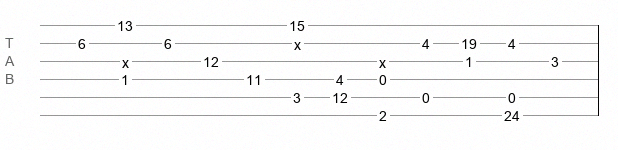0: (379, 72, 387, 82), (422, 90, 430, 100), (508, 90, 516, 100)
1: (121, 72, 129, 82), (465, 54, 473, 64)
11: (246, 72, 262, 82)
12: (203, 54, 219, 64), (332, 90, 348, 100)
13: (117, 18, 133, 28)
15: (289, 18, 305, 28)
19: (461, 36, 477, 46)
2: (379, 108, 387, 118)
24: (504, 108, 520, 118)
3: (293, 90, 301, 100), (551, 54, 559, 64)
4: (336, 72, 344, 82), (422, 36, 430, 46), (508, 36, 516, 46)
6: (78, 36, 86, 46), (164, 36, 172, 46)
x: (122, 55, 129, 63), (294, 37, 301, 45), (379, 55, 386, 63)
